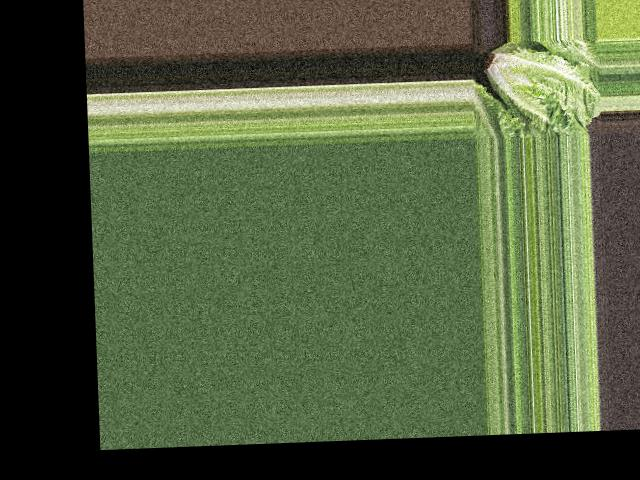lettuce: (477, 37, 600, 132)
